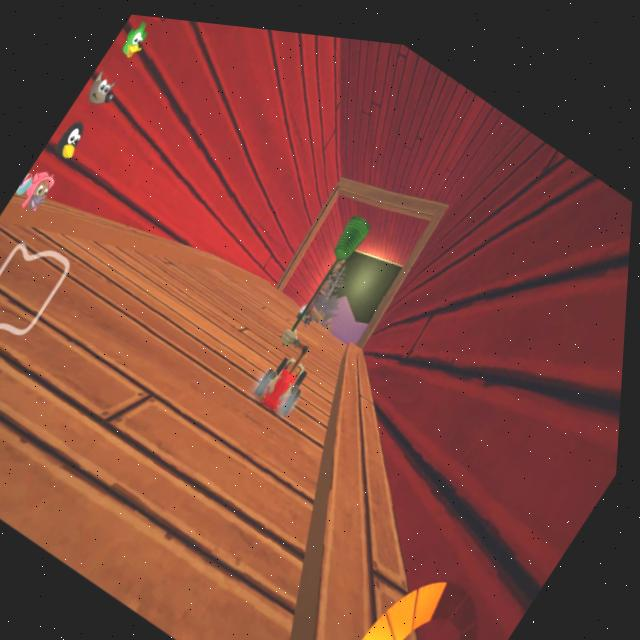player_kart: (239, 317, 340, 438)
track: (85, 228, 296, 471)
